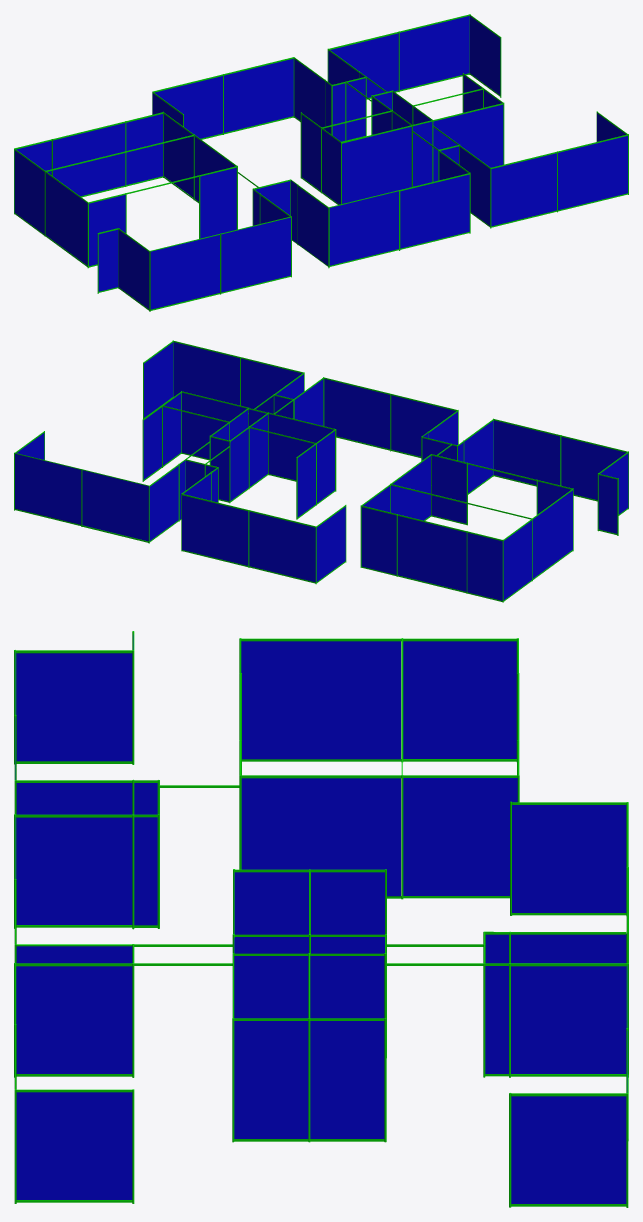
The model's file is Allestimento.fbx.
3 renders of one model, top to bottom at view 1: azimuth 30°, elevation 25°; view 2: azimuth 150°, elevation 25°; view 3: azimuth 270°, elevation 25°, orthographic. The views are drawn at different scales.
Visible parts, largest first — view 1: Allestimento_1, Allestimento_3, Allestimento_2; view 2: Allestimento_3, Allestimento_1, Allestimento_2; view 3: Allestimento_3, Allestimento_1, Allestimento_2.
Part boxes in pixels (<box>): Allestimento_1: <box>97,111,628,311</box>; Allestimento_3: <box>14,73,504,268</box>; Allestimento_2: <box>152,14,501,141</box>; Allestimento_3: <box>142,391,573,602</box>; Allestimento_1: <box>143,340,628,535</box>; Allestimento_2: <box>14,431,346,584</box>; Allestimento_3: <box>232,638,519,1142</box>; Allestimento_1: <box>14,631,239,1203</box>; Allestimento_2: <box>386,801,628,1207</box>.
Bounding box in the file's own units: 2010 × 251 × 1128.
